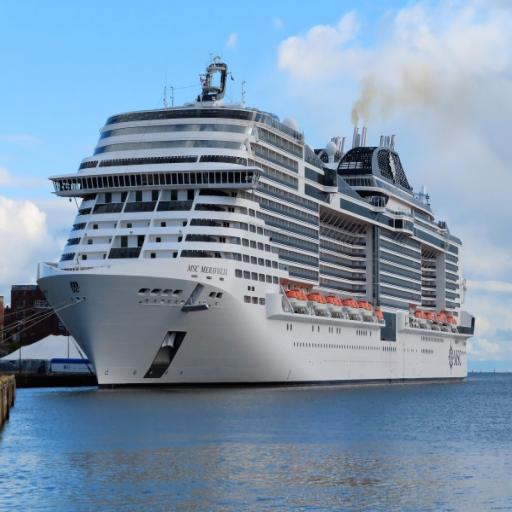cruises: (34, 61, 479, 395)
